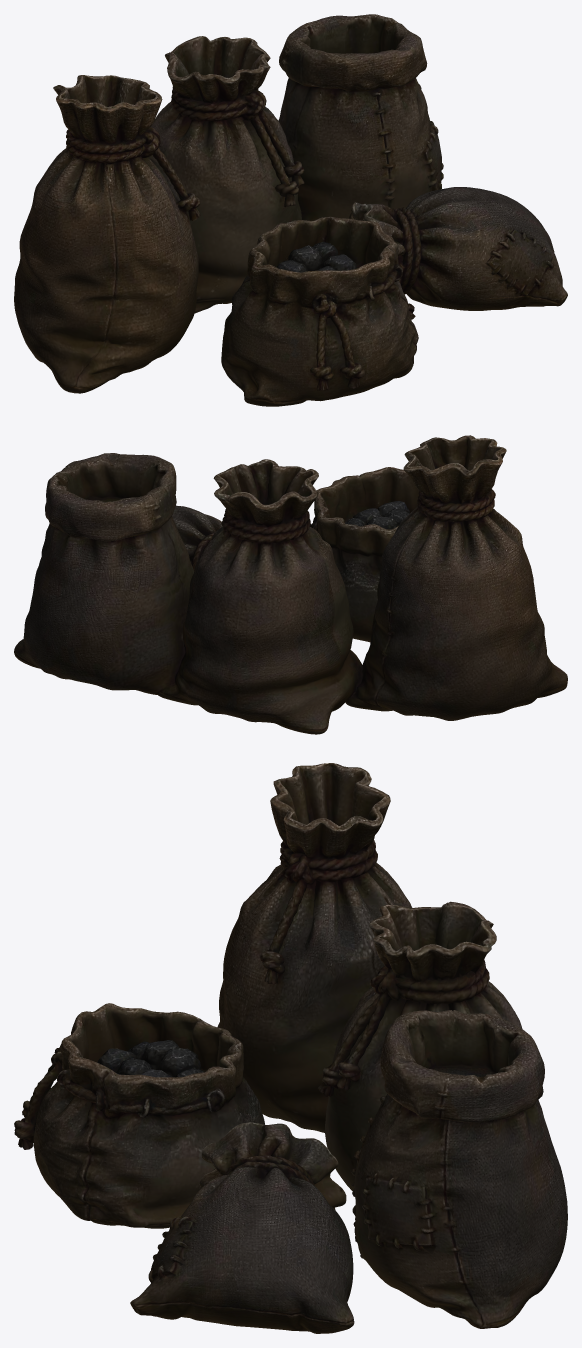
Rendered from Sacks.fbx.
The picture shows the model from 3 angles, top to bottom: view 1: azimuth 30°, elevation 25°; view 2: azimuth 150°, elevation 25°; view 3: azimuth 270°, elevation 25°; orthographic projection. The views are drawn at different scales.
Visible parts, largest first — view 1: Sacks; view 2: Sacks; view 3: Sacks.
Boxes of the visible parts, x1,y1,x2,y2 form: Sacks: [14, 14, 567, 406]; Sacks: [14, 435, 567, 734]; Sacks: [14, 763, 567, 1333].
Size of the model in its own units: 196 by 97.36 by 156.
Materials: 1 (1 with a texture image).
